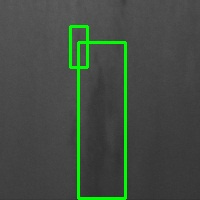inclusion: (79, 42, 126, 198), (70, 26, 87, 67)
